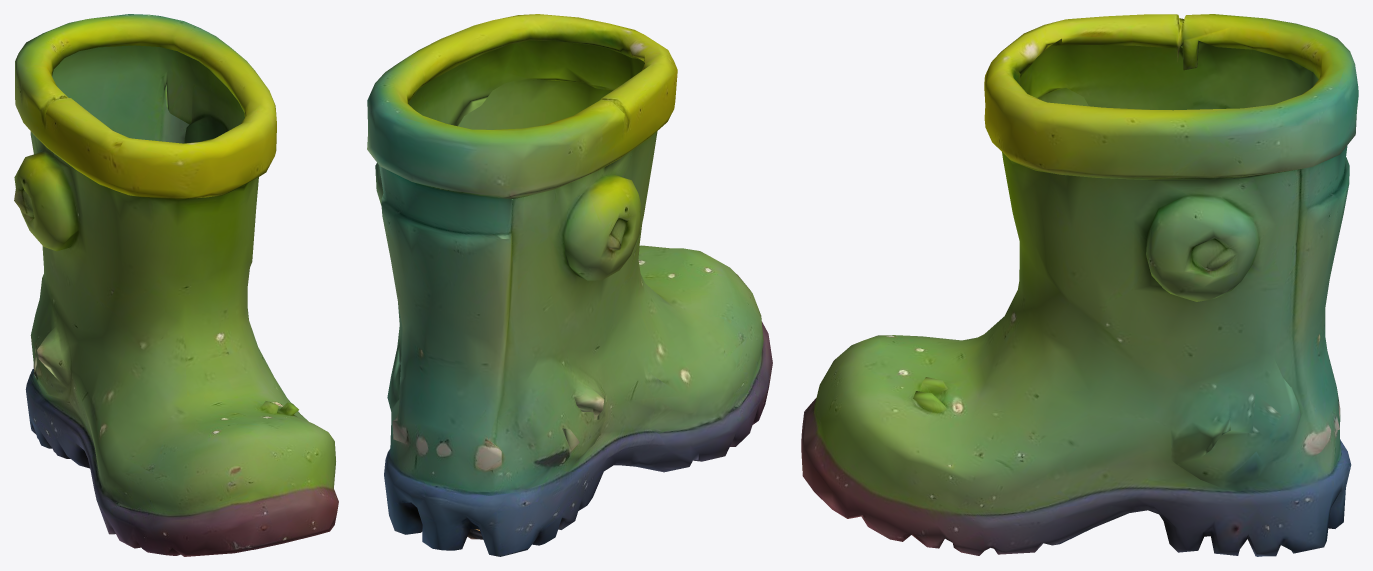
The model's file is boot.glb.
3 renders of one model, left to right at view 1: azimuth 30°, elevation 25°; view 2: azimuth 150°, elevation 25°; view 3: azimuth 270°, elevation 25°, orthographic. The views are drawn at different scales.
Visible parts, largest first — view 1: tripo_node_9a73de42-2e0f-4ab5-8ab6-efd168ed86b6; view 2: tripo_node_9a73de42-2e0f-4ab5-8ab6-efd168ed86b6; view 3: tripo_node_9a73de42-2e0f-4ab5-8ab6-efd168ed86b6.
Boxes of the visible parts, box(x1,y1,x2,y2) form: tripo_node_9a73de42-2e0f-4ab5-8ab6-efd168ed86b6: box(14, 14, 338, 556); tripo_node_9a73de42-2e0f-4ab5-8ab6-efd168ed86b6: box(367, 14, 772, 556); tripo_node_9a73de42-2e0f-4ab5-8ab6-efd168ed86b6: box(801, 14, 1358, 556).
Size of the model in its own units: 0.558 by 0.9087 by 0.9988.
Materials: 1 (1 with a texture image).
